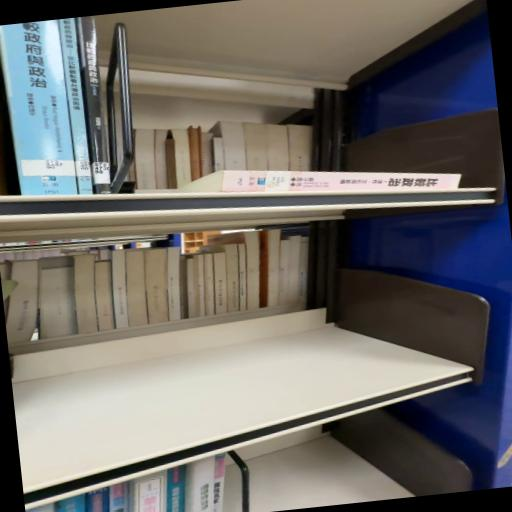flat: (176, 170, 461, 193)
